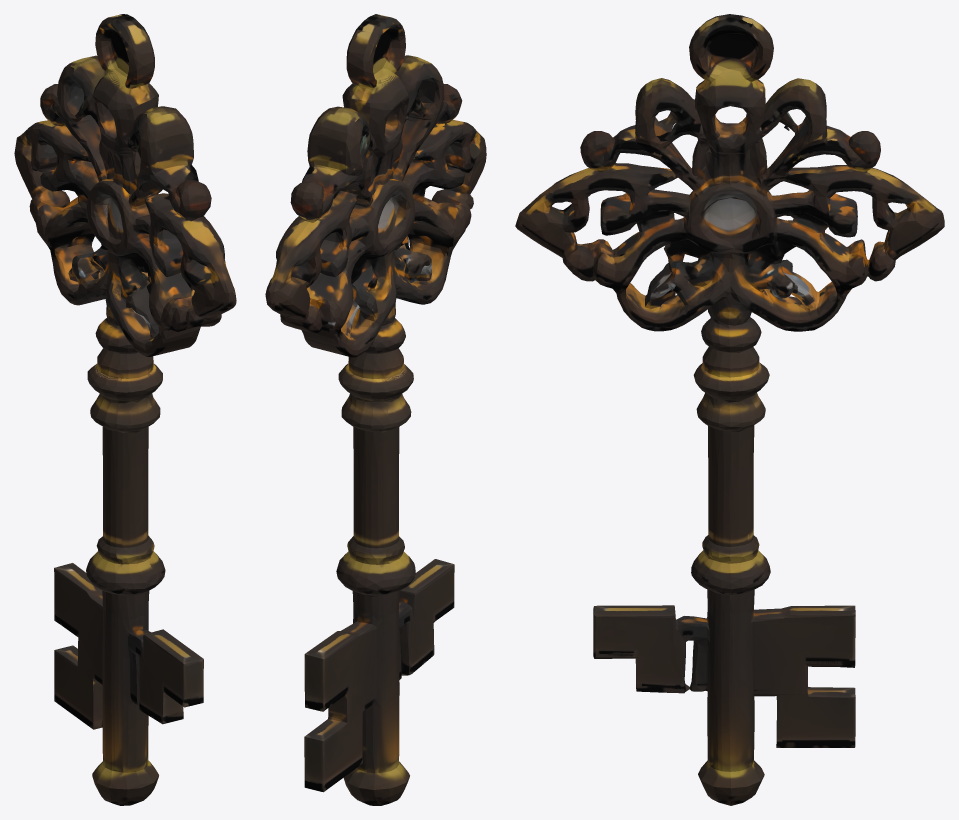
The picture shows the model from 3 angles, left to right: view 1: azimuth 30°, elevation 25°; view 2: azimuth 150°, elevation 25°; view 3: azimuth 270°, elevation 25°; orthographic projection.
Parts seen in each view (by area): view 1: world; view 2: world; view 3: world.
Part boxes in pixels (x1,y1,x2,y2): world: [14, 14, 236, 805]; world: [265, 14, 486, 805]; world: [515, 14, 944, 805].
Size of the model in its own units: 0.0913 by 0.9893 by 0.4909.
Materials: 1 (1 with a texture image).
